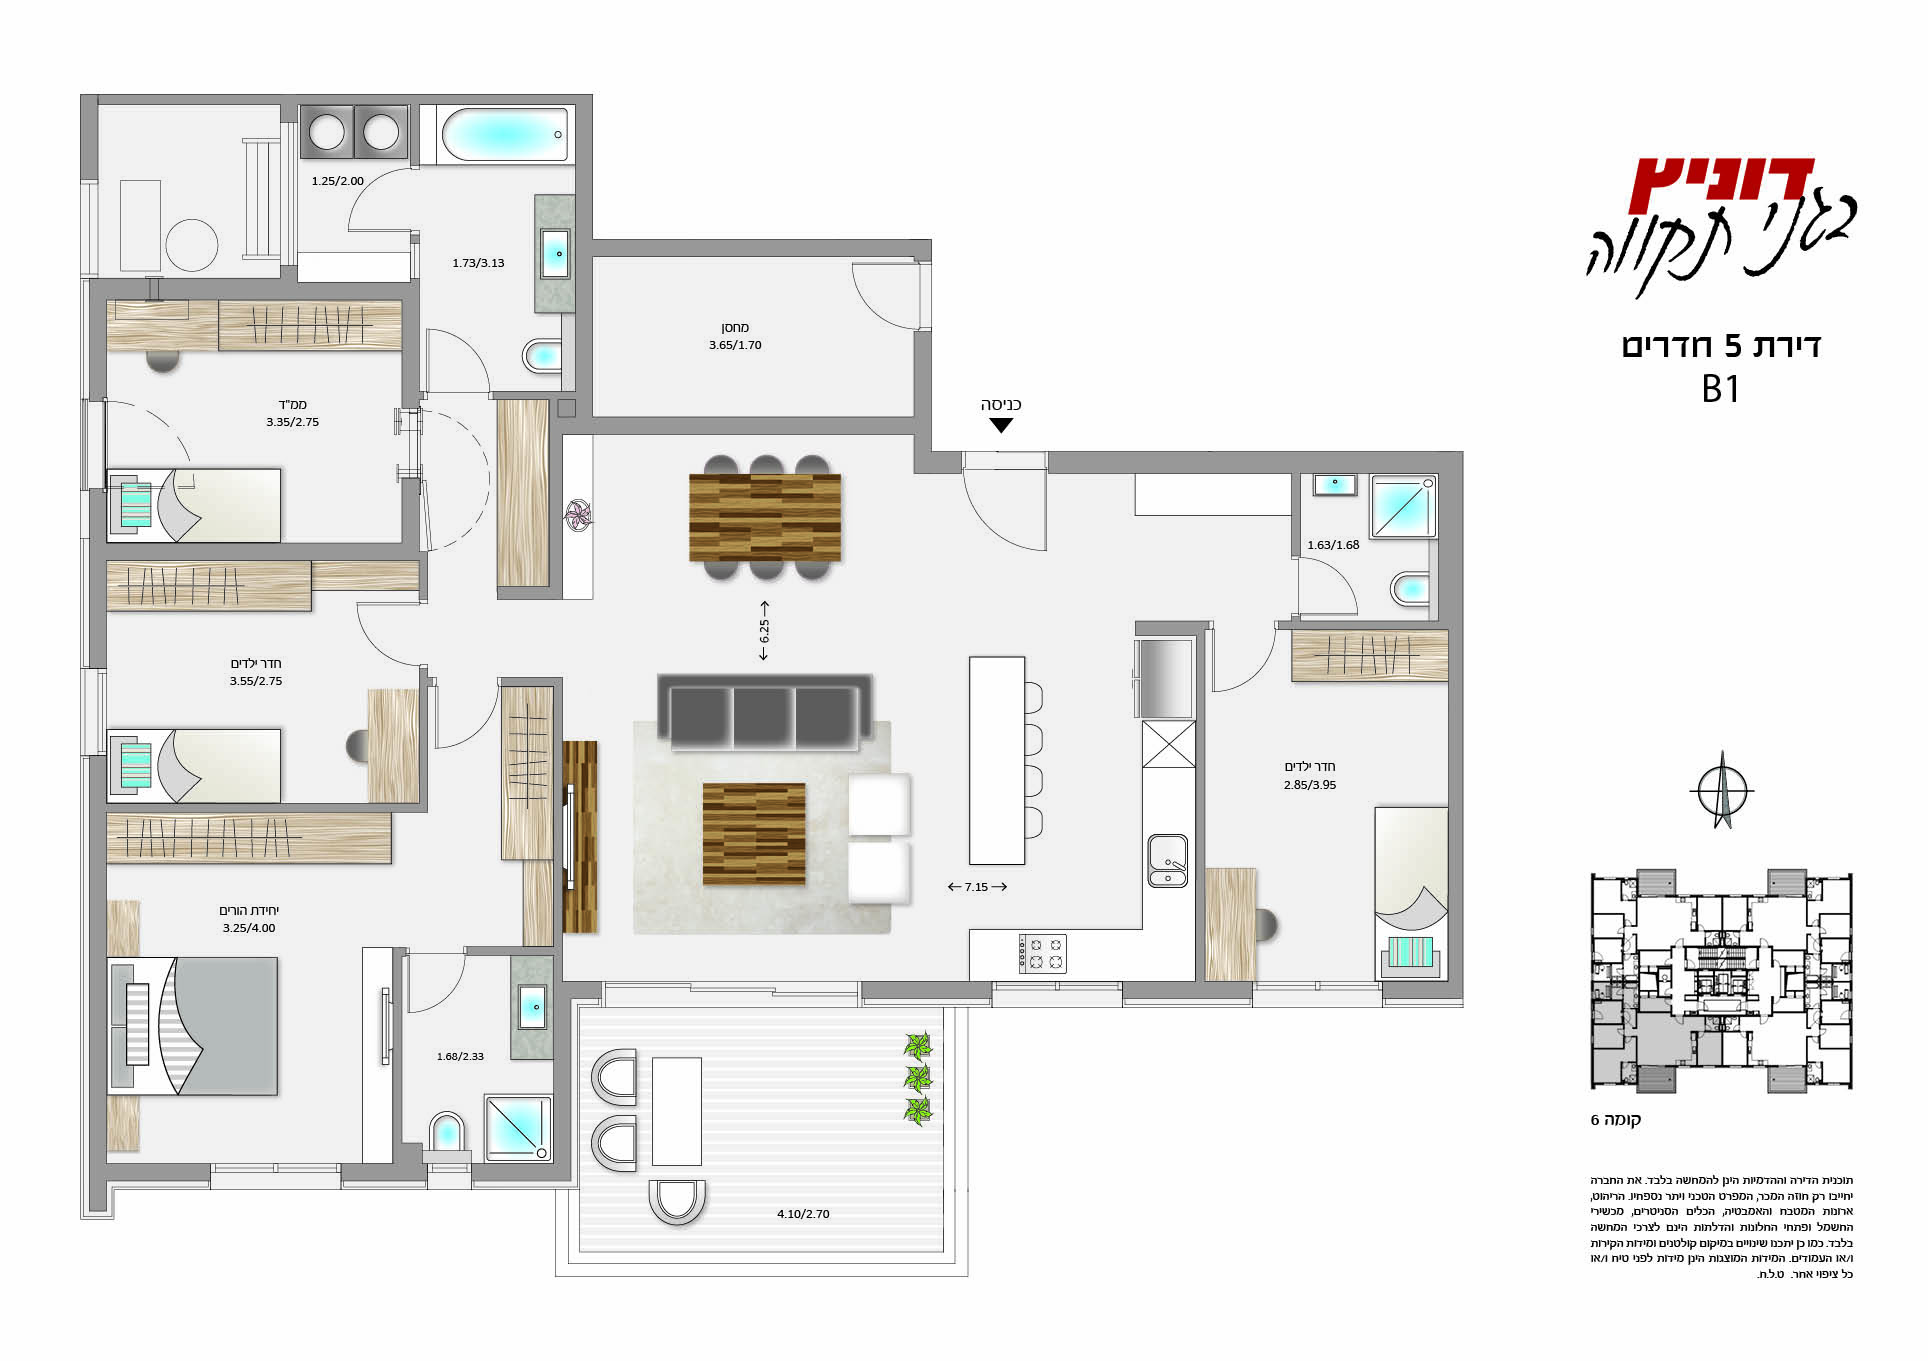door: (424, 407, 495, 552), (957, 493, 1074, 566), (421, 312, 501, 390), (1208, 638, 1289, 713), (334, 597, 412, 667), (844, 253, 907, 337), (429, 694, 490, 764), (1302, 552, 1359, 622), (404, 971, 485, 1015), (348, 187, 398, 242)
wall: (88, 759, 108, 1184), (1052, 452, 1463, 471), (574, 91, 594, 432), (592, 239, 932, 258), (88, 544, 420, 561), (81, 94, 595, 105), (1449, 630, 1463, 972), (1438, 451, 1463, 630), (105, 801, 432, 813), (913, 330, 934, 477), (552, 938, 564, 1172), (1197, 622, 1205, 980), (548, 429, 563, 602), (392, 946, 404, 1161), (99, 1164, 211, 1183), (555, 678, 563, 938), (339, 1164, 429, 1178), (81, 94, 96, 178), (467, 946, 561, 957), (498, 586, 561, 602)
window: (208, 1165, 334, 1209), (1258, 981, 1385, 1019), (999, 985, 1122, 1024), (602, 980, 692, 1010), (281, 124, 298, 261), (80, 399, 103, 488), (81, 666, 103, 753), (81, 178, 99, 272), (426, 1167, 473, 1195)
